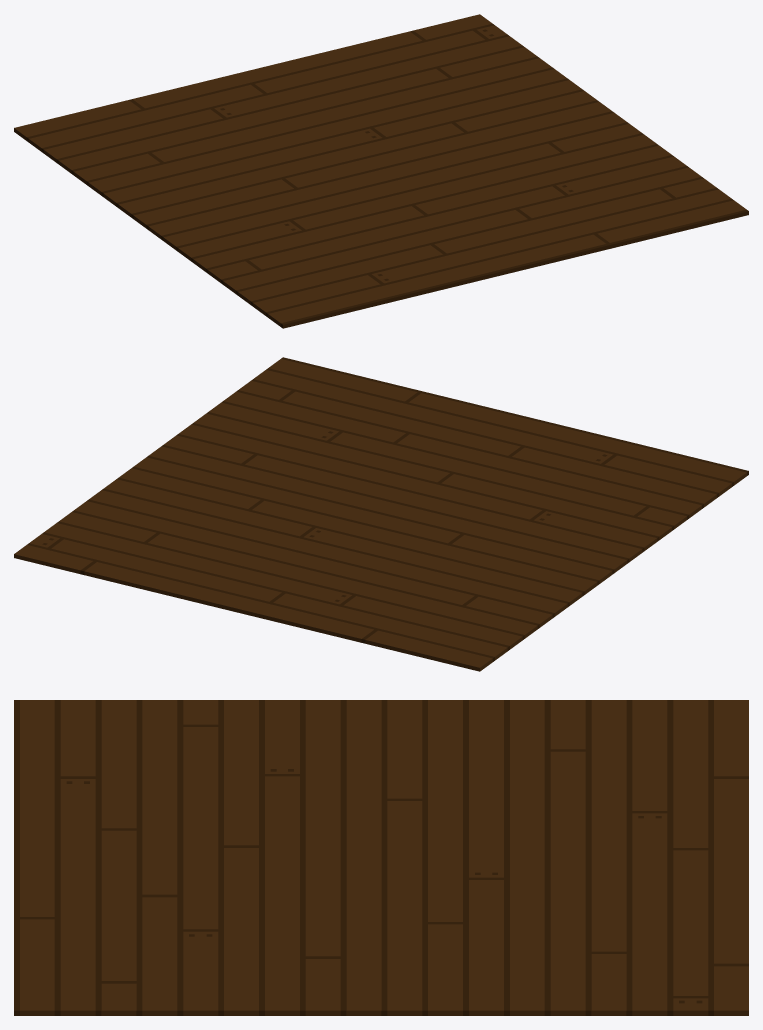
File: floor_wood.obj
The picture shows the model from 3 angles, top to bottom: view 1: azimuth 30°, elevation 25°; view 2: azimuth 150°, elevation 25°; view 3: azimuth 270°, elevation 25°; orthographic projection. The views are drawn at different scales.
Bounding box in the file's own units: 126 × 1 × 126.
Materials: 1 (1 with a texture image).
